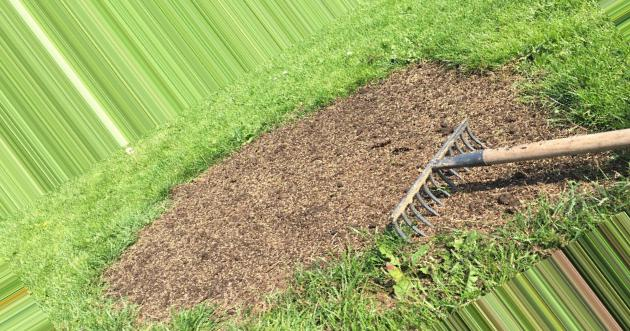patch: (121, 159, 374, 287), (308, 82, 448, 154)
